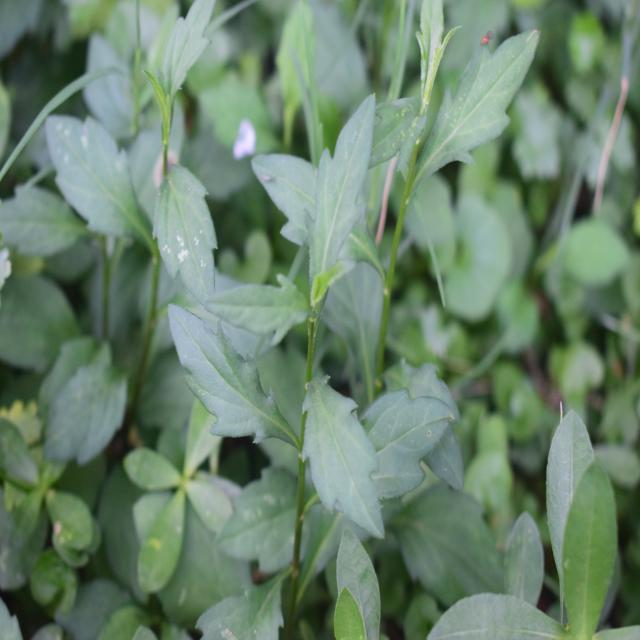Indian aster: (226, 123, 438, 570), (51, 6, 213, 374)
